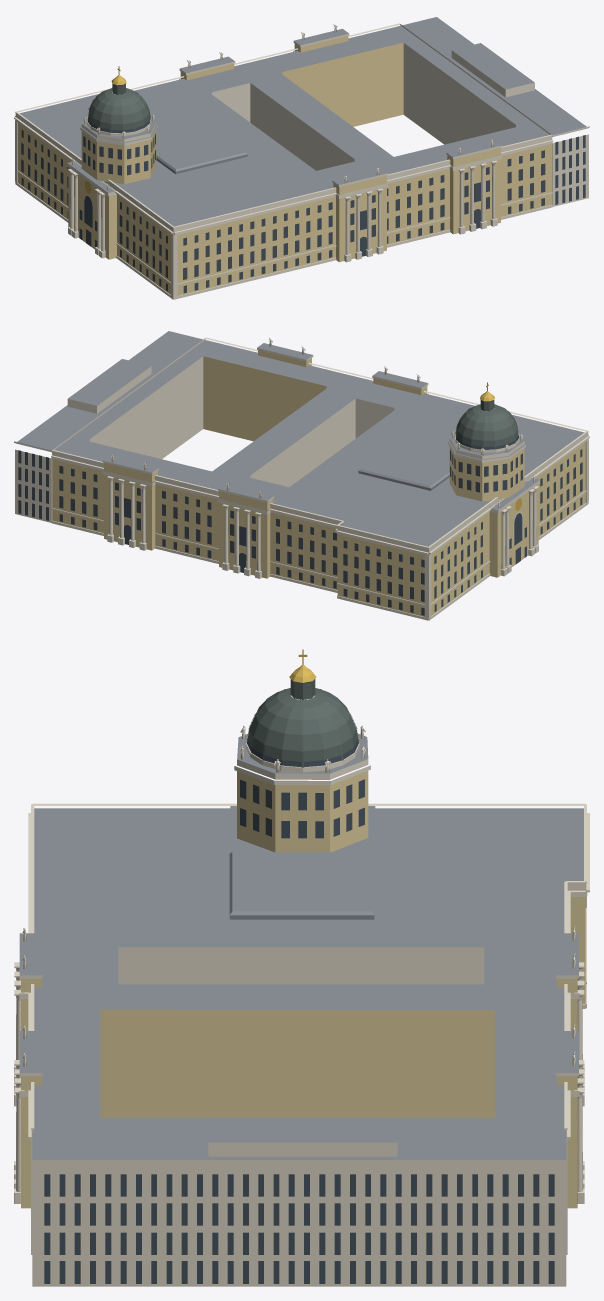
The model's file is berlin-humboldt-forum.glb.
3 views of the same model, one above another, from view 1: azimuth 30°, elevation 25°; view 2: azimuth 150°, elevation 25°; view 3: azimuth 270°, elevation 25° (orthographic). The views are drawn at different scales.
Visible parts, largest first — view 1: Humboldt Forum; view 2: Humboldt Forum; view 3: Humboldt Forum.
Boxes of the visible parts, x1,y1,x2,y2 form: Humboldt Forum: (14,17,589,299); Humboldt Forum: (14,331,589,620); Humboldt Forum: (14,649,589,1286).
Bounding box in the file's own units: 183 × 70 × 122.
